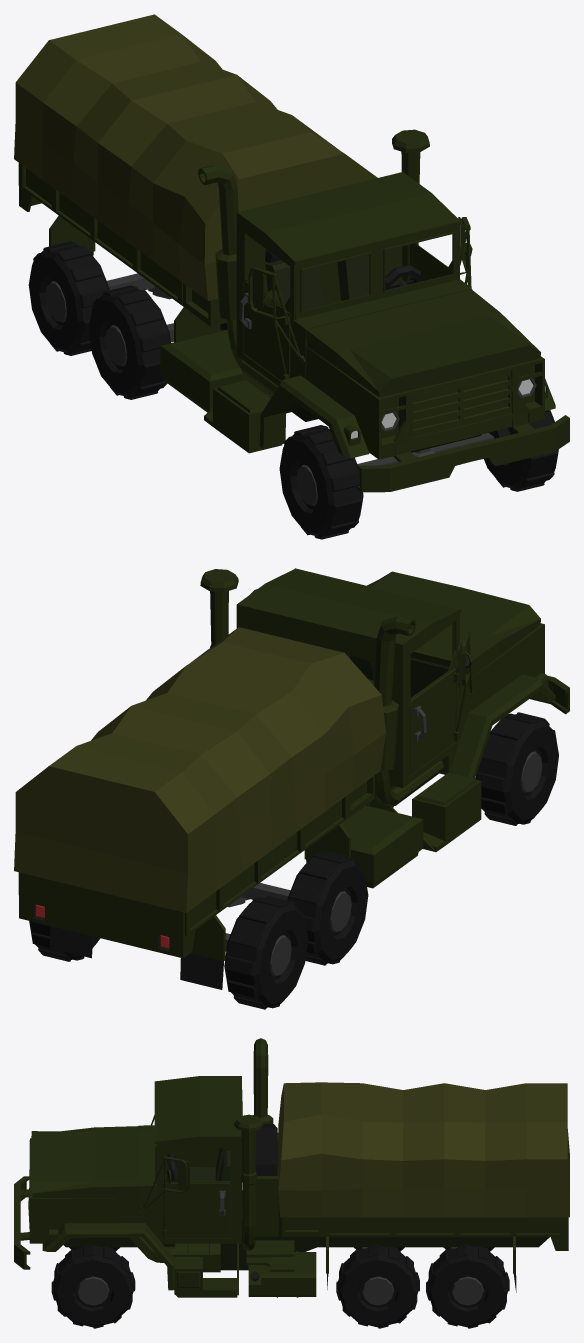
File: truck_m939.obj
The picture shows the model from 3 angles, top to bottom: view 1: azimuth 30°, elevation 25°; view 2: azimuth 150°, elevation 25°; view 3: azimuth 270°, elevation 25°; orthographic projection. The views are drawn at different scales.
Visible parts, largest first — view 1: Main__Body, Main__BackCovering, front_right_wheel__Tires, middle_right_wheel__Tires, back_right_wheel__Tires, Main__seats, front_left_wheel__Tires, Main__grey1, FrontWheelTwisterThing, front_right_wheel__tire_2, middle_right_wheel__tire_2, back_right_wheel__tire_2; view 2: Main__BackCovering, Main__Body, back_right_wheel__Tires, front_right_wheel__Tires, middle_right_wheel__Tires, Main__grey2, Main__Body2, Main__grey1, back_left_wheel__Tires, front_right_wheel__tire_2, back_right_wheel__tire_2, middle_right_wheel__tire_2; view 3: Main__Body, Main__BackCovering, front_left_wheel__Tires, back_left_wheel__Tires, middle_left_wheel__Tires, Main__Body2, Main__Tires, Main__seats, back_left_wheel__tire_2, middle_left_wheel__tire_2, front_left_wheel__tire_2.
Part boxes in pixels (bbox=[...]): Main__Body: bbox=[18, 129, 569, 492]; Main__BackCovering: bbox=[14, 14, 377, 300]; front_right_wheel__Tires: bbox=[279, 425, 363, 539]; middle_right_wheel__Tires: bbox=[89, 285, 170, 399]; back_right_wheel__Tires: bbox=[28, 241, 109, 355]; Main__seats: bbox=[265, 249, 393, 310]; front_left_wheel__Tires: bbox=[484, 410, 558, 491]; Main__grey1: bbox=[107, 273, 536, 431]; FrontWheelTwisterThing: bbox=[357, 433, 494, 465]; front_right_wheel__tire_2: bbox=[296, 464, 317, 505]; middle_right_wheel__tire_2: bbox=[105, 325, 127, 366]; back_right_wheel__tire_2: bbox=[45, 281, 66, 322]; Main__BackCovering: bbox=[14, 627, 385, 912]; Main__Body: bbox=[18, 568, 569, 961]; back_right_wheel__Tires: bbox=[224, 896, 308, 1009]; front_right_wheel__Tires: bbox=[475, 712, 558, 825]; middle_right_wheel__Tires: bbox=[287, 852, 368, 965]; Main__grey2: bbox=[32, 859, 308, 989]; Main__Body2: bbox=[350, 656, 449, 809]; Main__grey1: bbox=[225, 706, 426, 951]; back_left_wheel__Tires: bbox=[29, 921, 100, 961]; front_right_wheel__tire_2: bbox=[520, 751, 542, 792]; back_right_wheel__tire_2: bbox=[270, 935, 291, 976]; middle_right_wheel__tire_2: bbox=[330, 891, 351, 932]; Main__Body: bbox=[14, 1038, 568, 1297]; Main__BackCovering: bbox=[278, 1082, 569, 1217]; front_left_wheel__Tires: bbox=[51, 1244, 135, 1328]; back_left_wheel__Tires: bbox=[426, 1244, 509, 1328]; middle_left_wheel__Tires: bbox=[336, 1244, 419, 1328]; Main__Body2: bbox=[63, 1197, 549, 1270]; Main__Tires: bbox=[255, 1124, 277, 1175]; Main__seats: bbox=[190, 1147, 230, 1181]; back_left_wheel__tire_2: bbox=[452, 1276, 483, 1305]; middle_left_wheel__tire_2: bbox=[362, 1276, 394, 1305]; front_left_wheel__tire_2: bbox=[77, 1276, 109, 1305].
Bounding box in the file's own units: 2.67 × 3.05 × 7.26.
